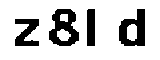8: (47, 5, 81, 49)
d: (116, 5, 149, 50)
l: (86, 5, 106, 48)
z: (11, 15, 44, 51)
